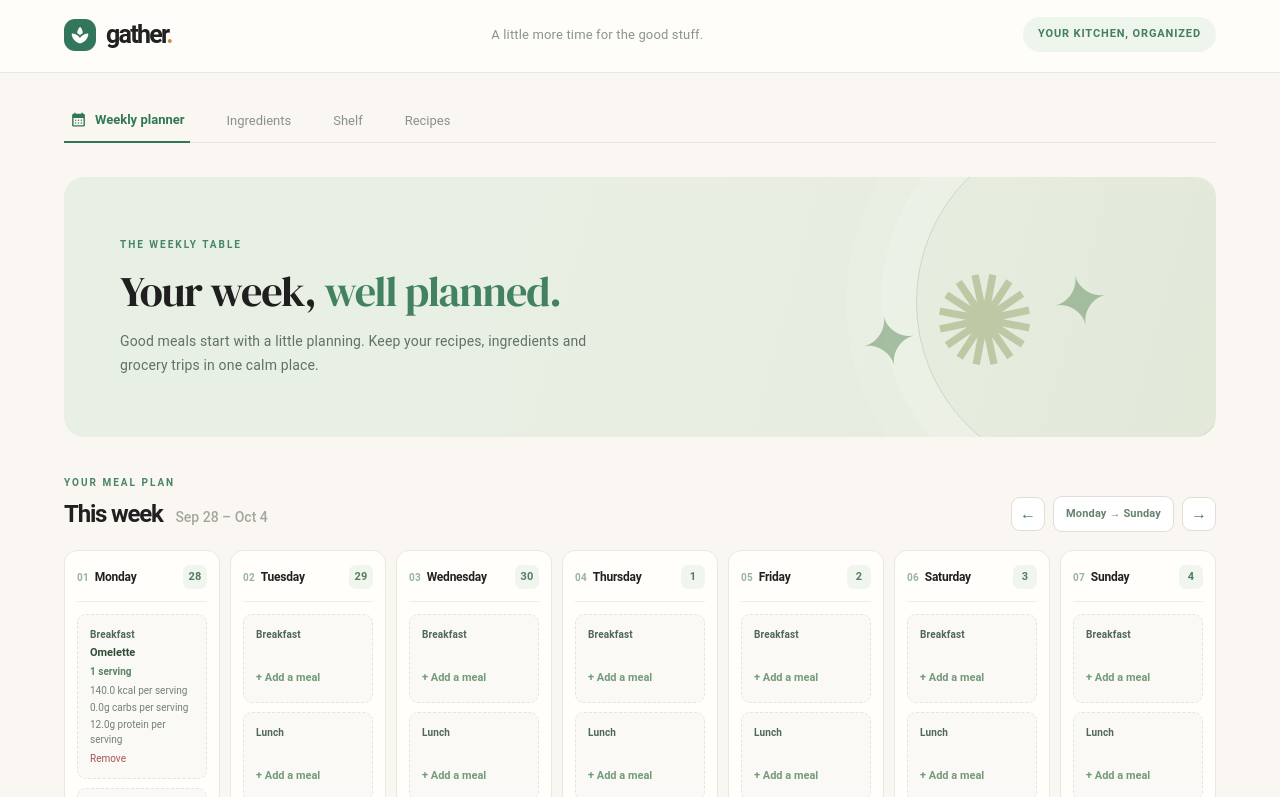
Scenario: weekly meal planner › can replace and remove one meal without changing another planned slot
This screenshot has width=1280, height=797.
Click the button with aria-label "edit breakfast on monday" at (142, 697), box [90,642,194,751]
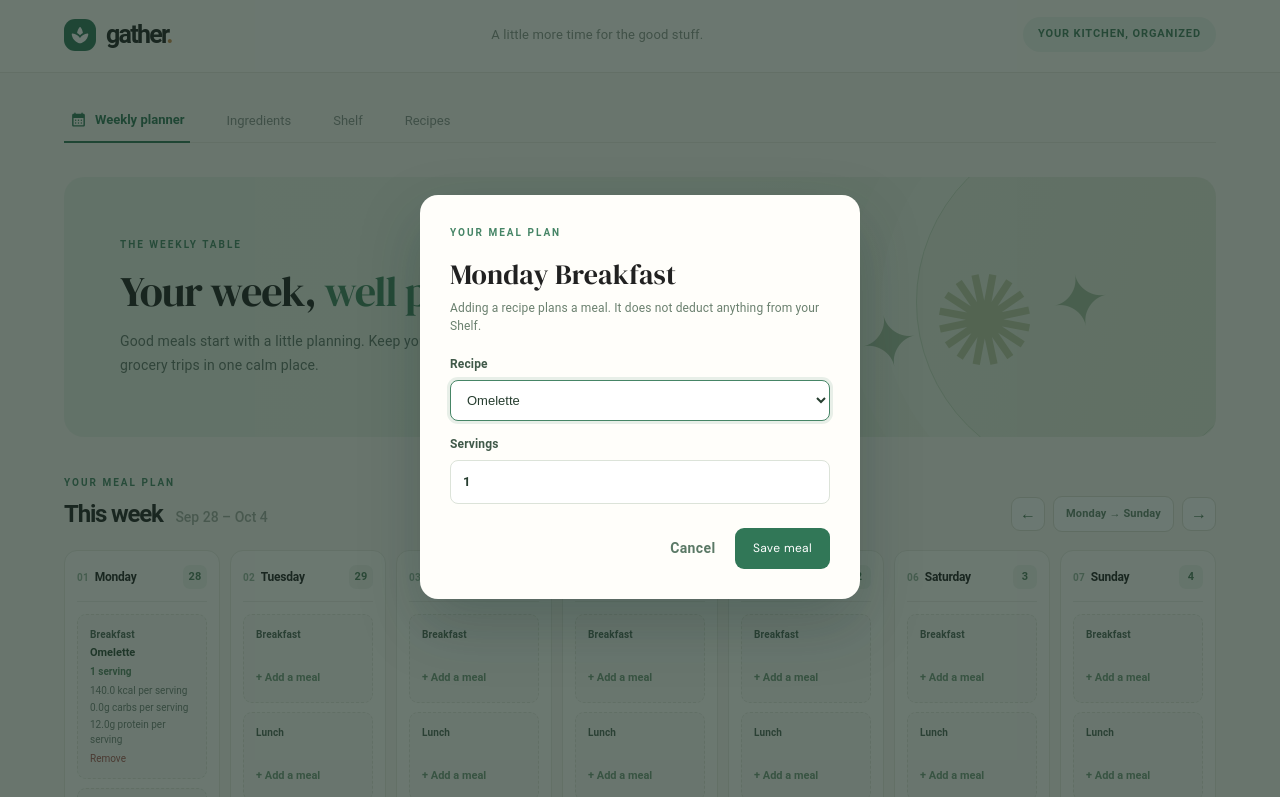
Select "Oat bowl" in the dropdown labelled "Recipe" at (640, 401), box [450,380,830,421]
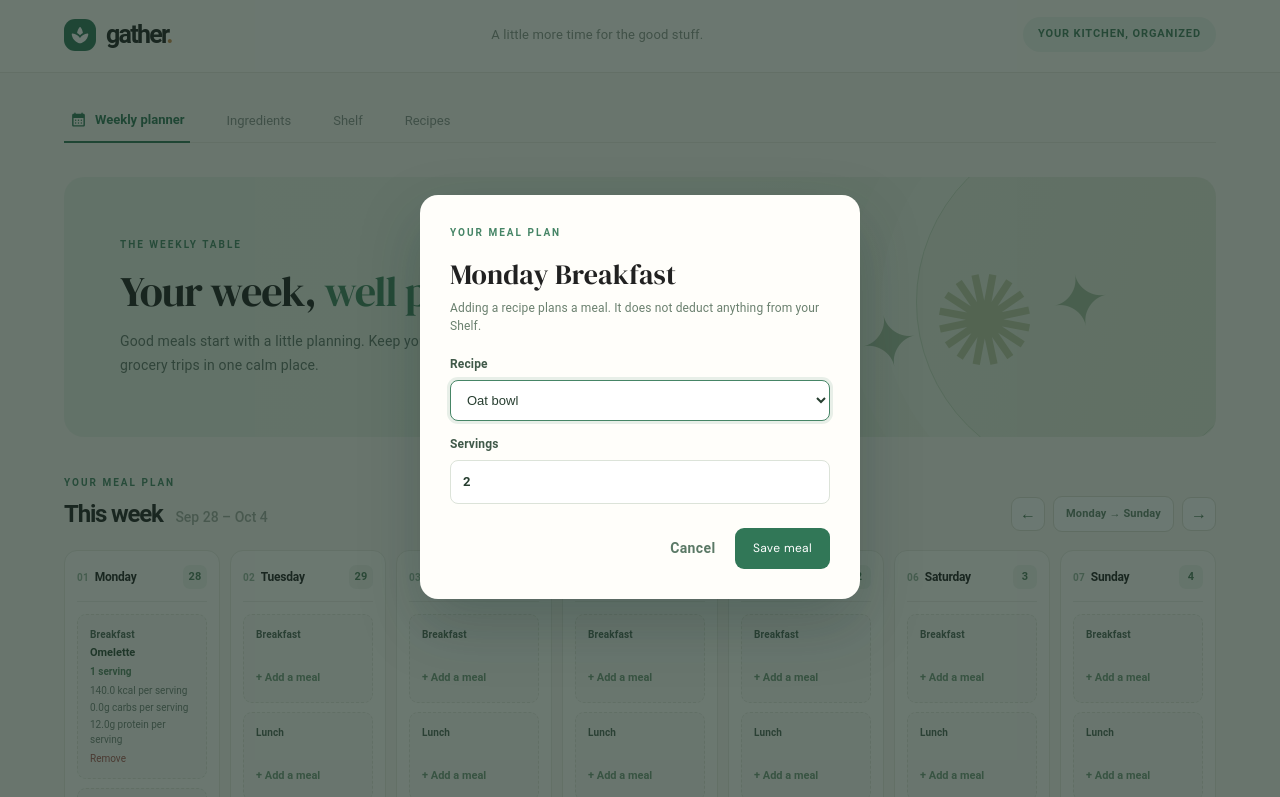
Click the button "Save meal" at (782, 548), box [735,528,830,569]
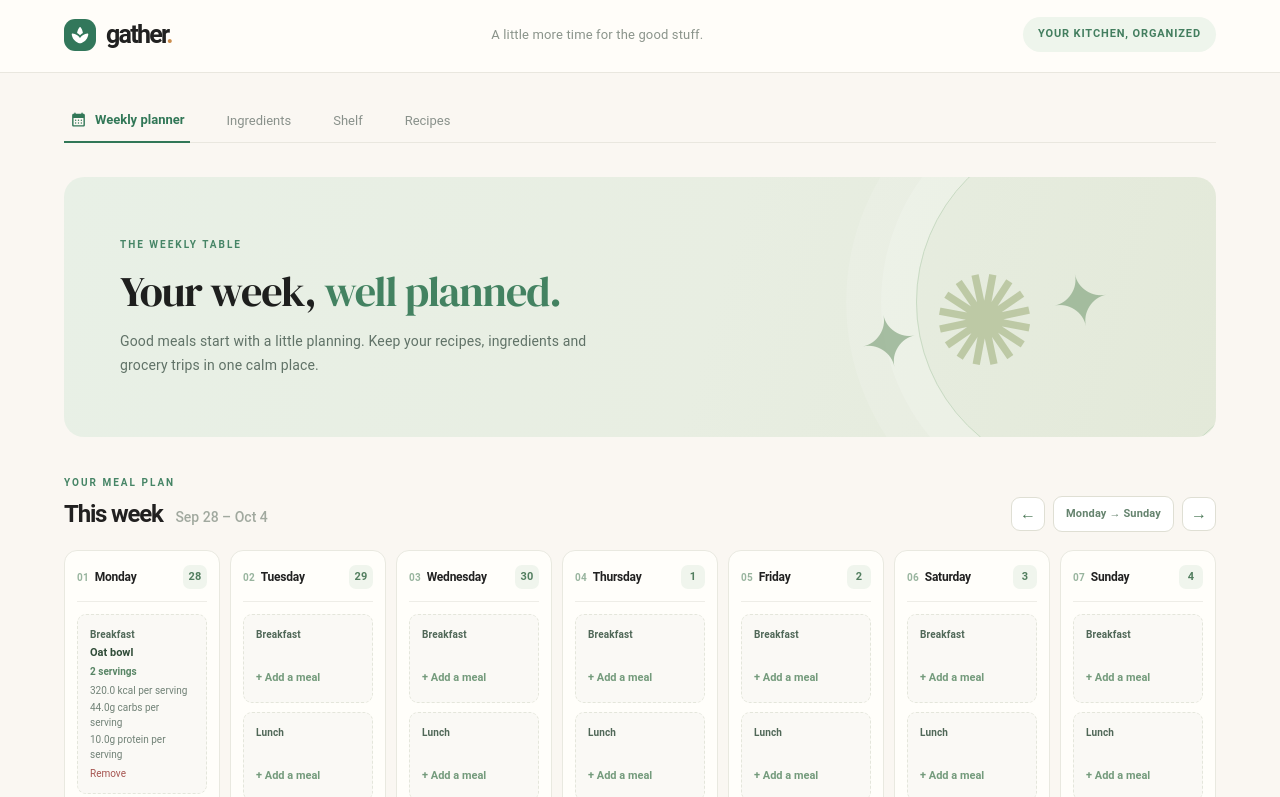
Expected: the button with aria-label "edit breakfast on monday" shows "Oat bowl", [90,642,194,766]
Click the button with aria-label "remove breakfast on monday" at (108, 774), box [90,766,126,781]
(page scrolled)
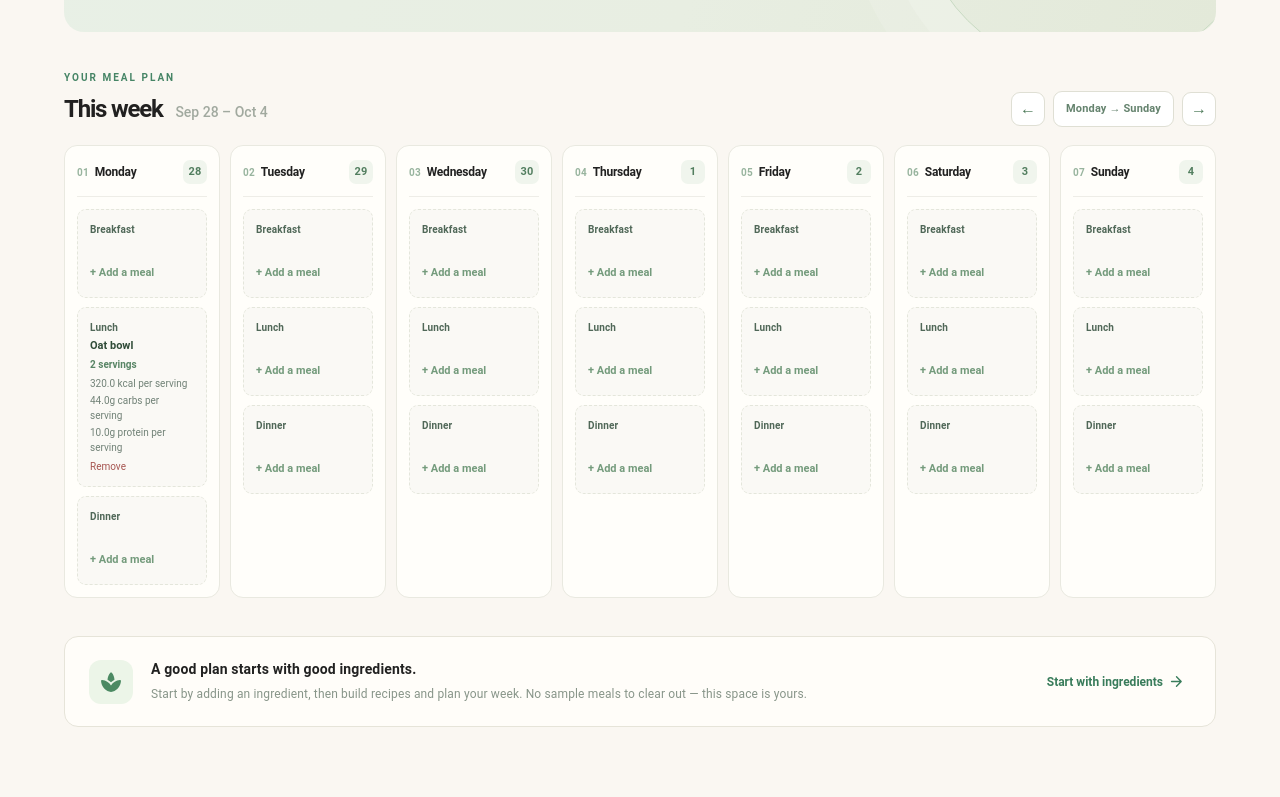
Expected: the button with aria-label "edit lunch on monday" shows "Oat bowl", [90,335,194,459]
Expected: the button with aria-label "add breakfast on monday" is shown, [90,260,194,285]
